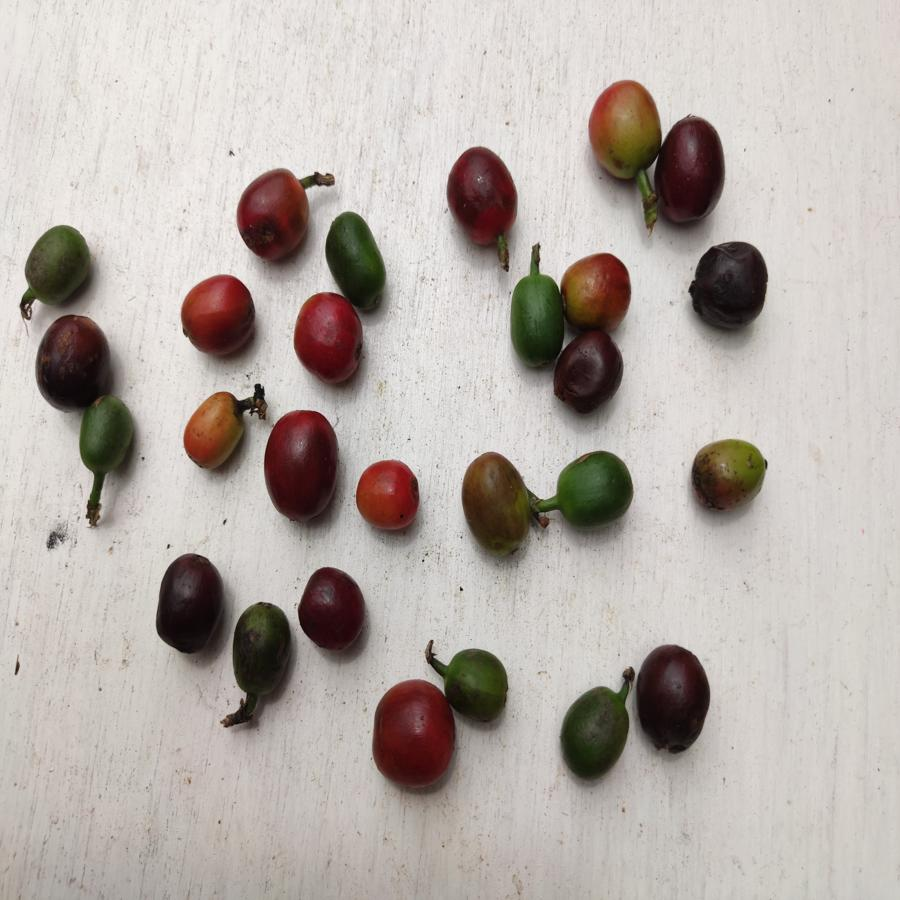Inmaduro: (557, 681, 633, 781), (20, 222, 98, 311), (322, 208, 394, 301), (559, 448, 631, 528), (503, 271, 562, 366), (443, 644, 507, 725), (80, 399, 139, 478)
Maduro: (366, 675, 459, 797), (232, 170, 314, 264), (179, 273, 259, 358), (292, 292, 364, 386)
Pinton: (585, 78, 662, 189), (461, 448, 531, 567), (688, 430, 772, 521), (562, 251, 633, 329), (177, 392, 247, 470), (353, 463, 420, 540)
Sobremaduro: (259, 411, 341, 525), (636, 642, 711, 756), (652, 114, 729, 225), (442, 143, 520, 252), (295, 567, 380, 662), (690, 239, 774, 333), (152, 551, 224, 654), (30, 313, 110, 402), (552, 333, 628, 406)
